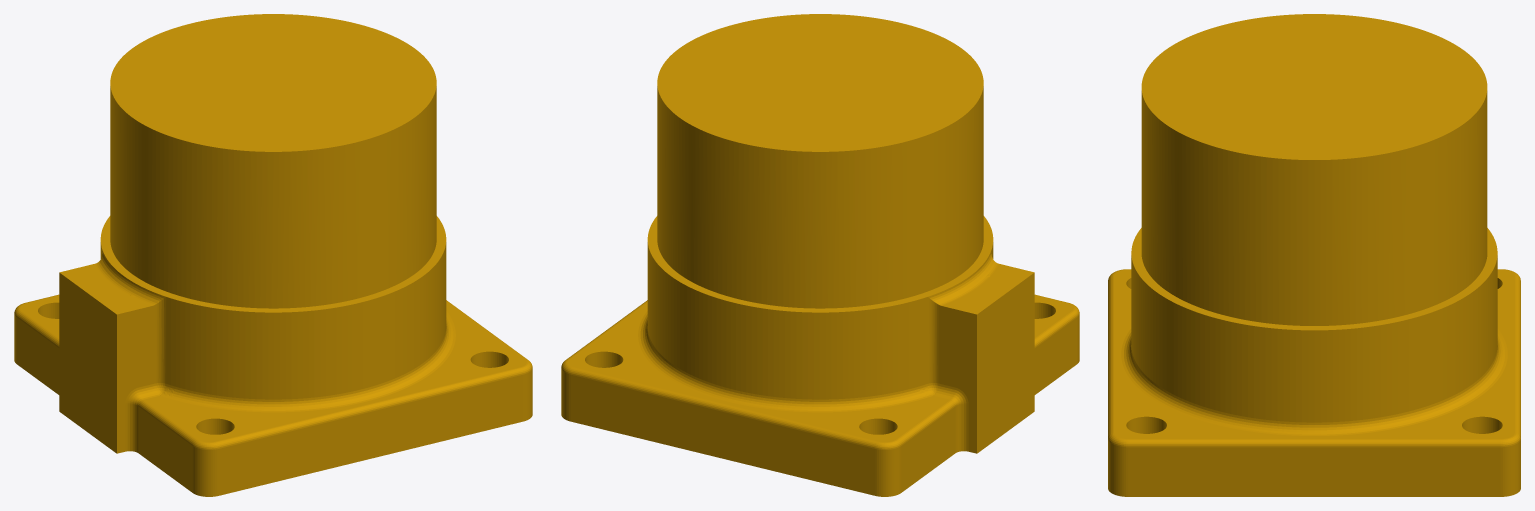
The picture shows the model from 3 angles, left to right: view 1: azimuth 30°, elevation 25°; view 2: azimuth 150°, elevation 25°; view 3: azimuth 270°, elevation 25°; orthographic projection. The views are drawn at different scales.
Parts seen in each view (by area): view 1: link_1; view 2: link_1; view 3: link_1.
Part boxes in pixels (left/top/right/bottom): link_1: left=14, top=14, right=532, bottom=496; link_1: left=561, top=14, right=1079, bottom=496; link_1: left=1108, top=14, right=1520, bottom=496.
Size of the model in its own units: 0.213 by 0.203 by 0.175.
